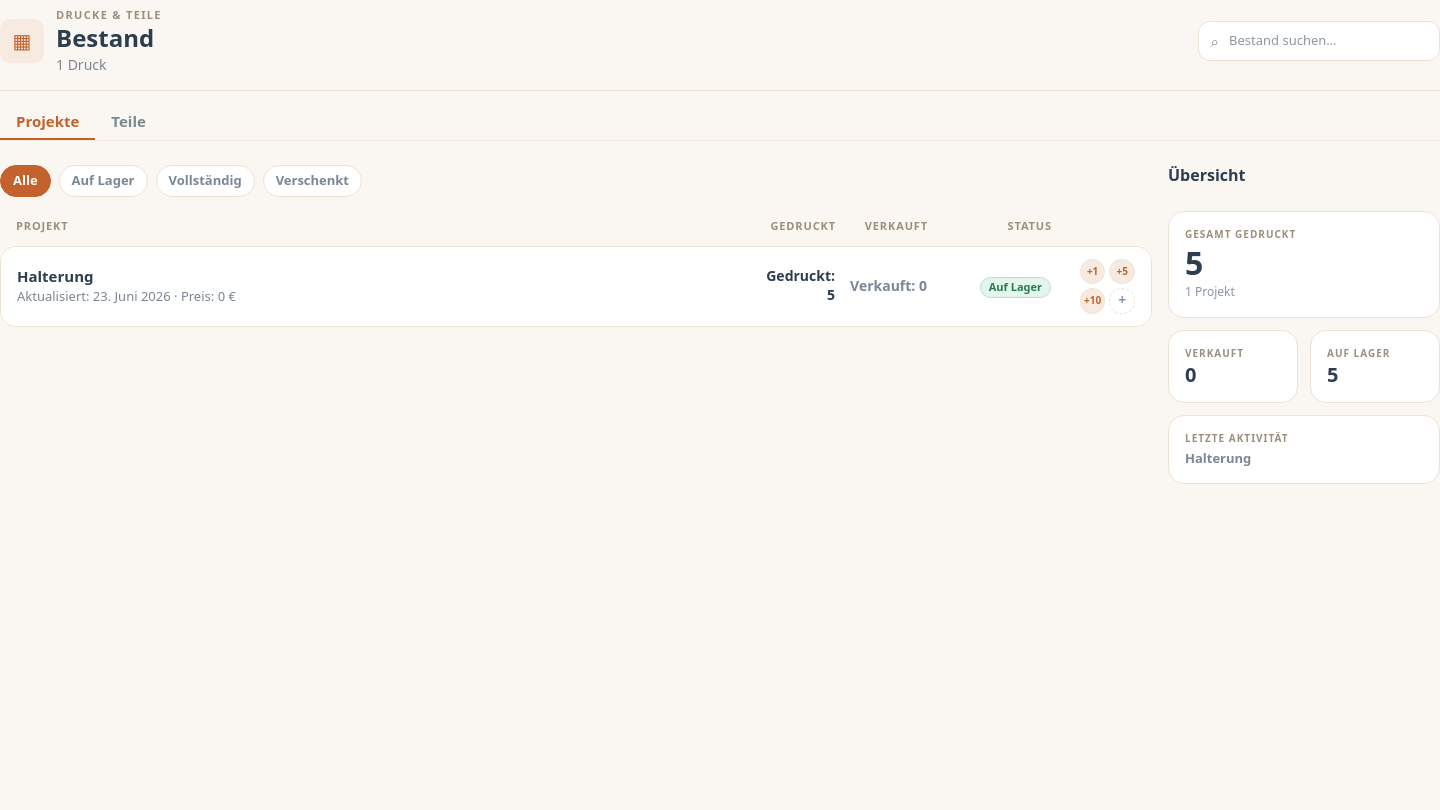
Test: InventoryComponent › opens detail from card tap while quick action tap stays separate
Click the button with test id "inventory-record-print" at (1093, 271), box [1080,258,1105,284]
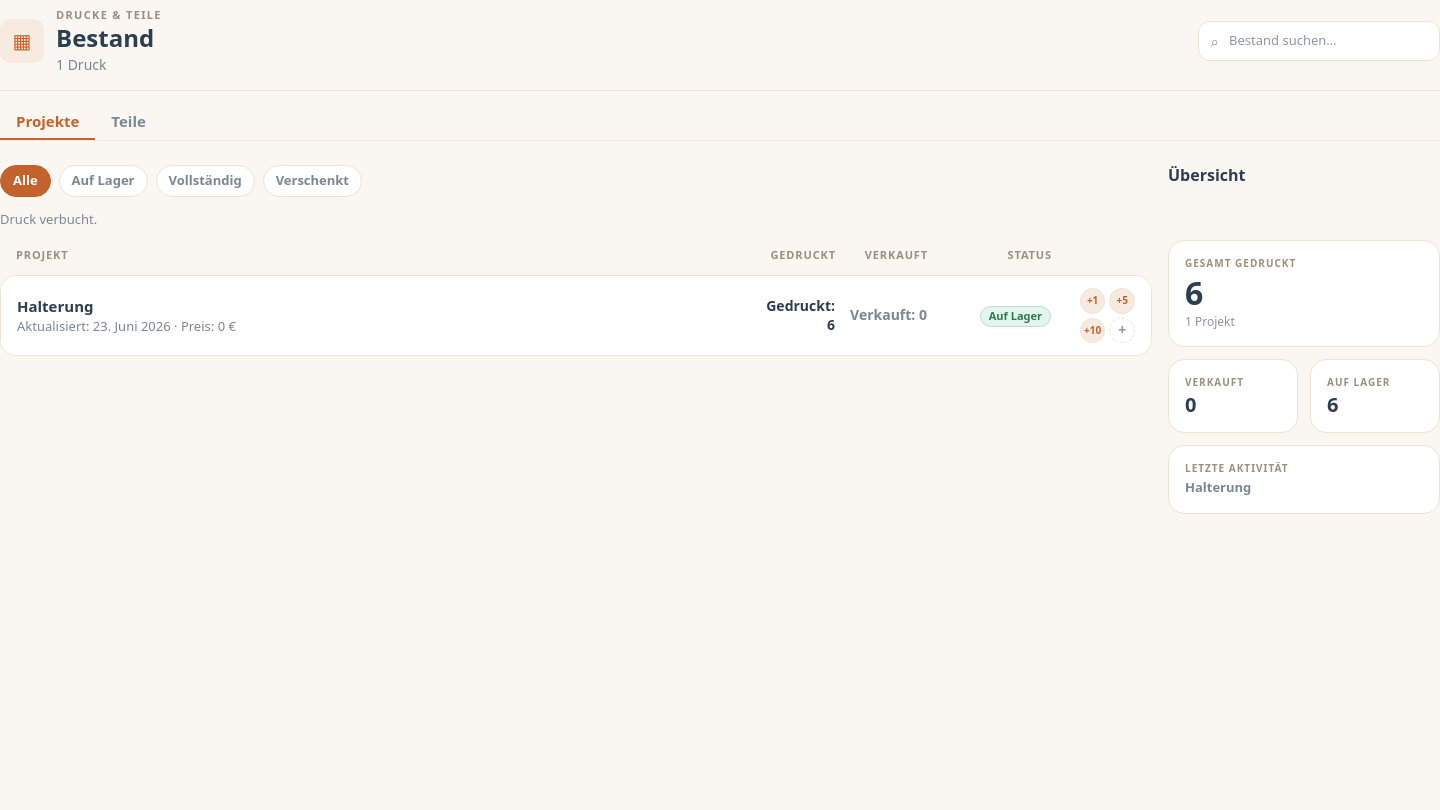
Click the list item with test id "inventory-card" at (576, 316), box [1,276,1151,355]
(page scrolled)
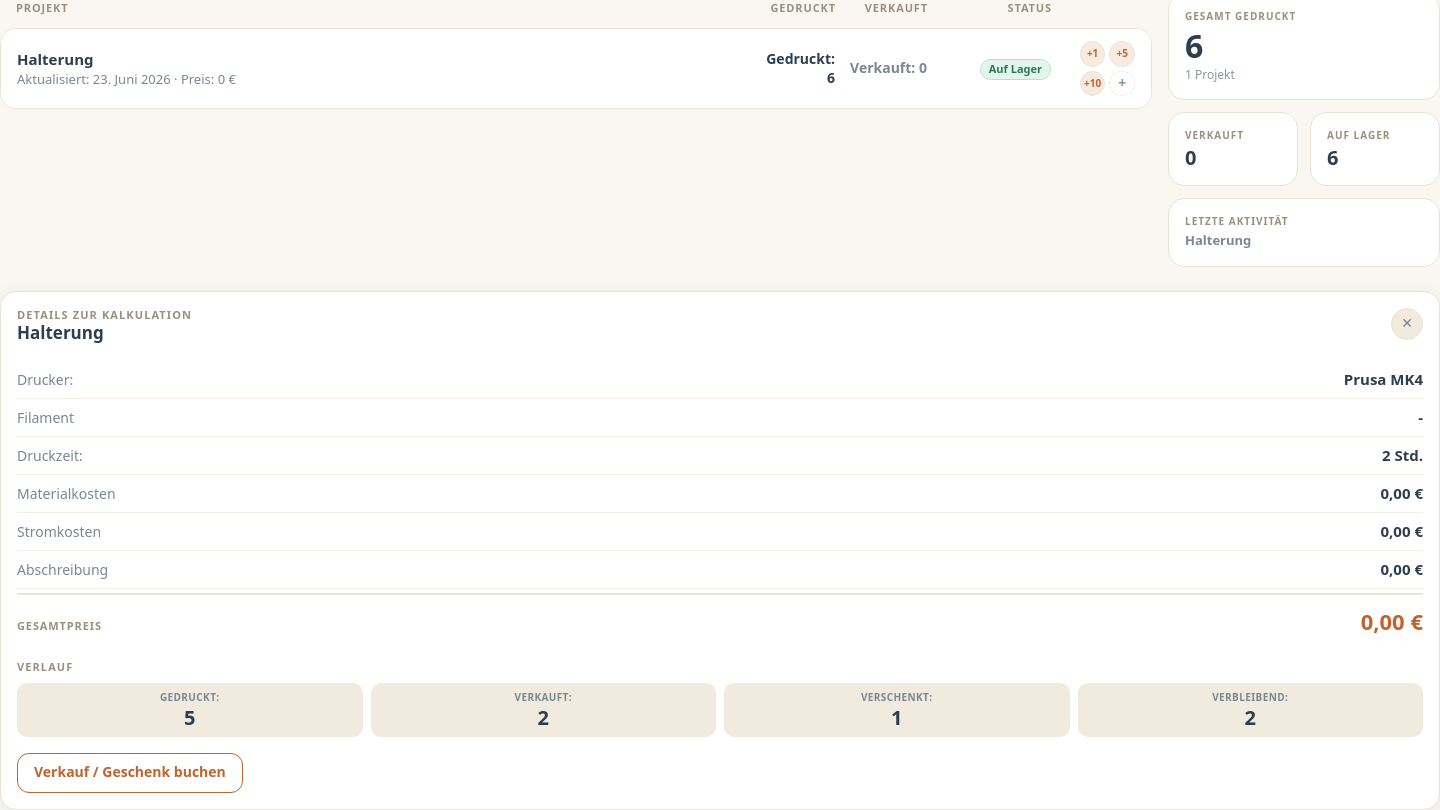
Expected: the element with test id "inventory-detail" is shown
Expected: the text "Details zur Kalkulation" is shown, [17,308,192,322]
